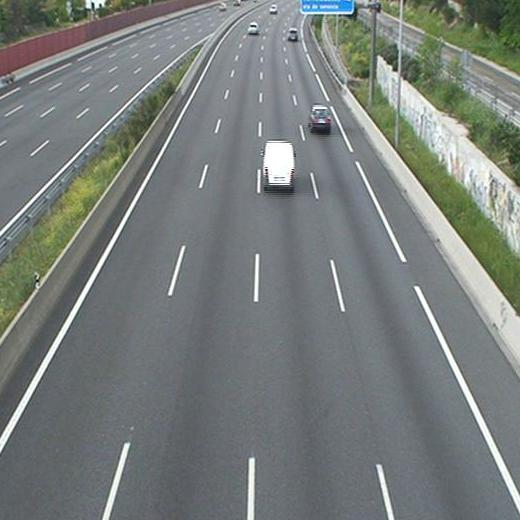car: (308, 103, 333, 135), (248, 22, 258, 36), (288, 28, 298, 41)
van: (261, 140, 296, 192)
